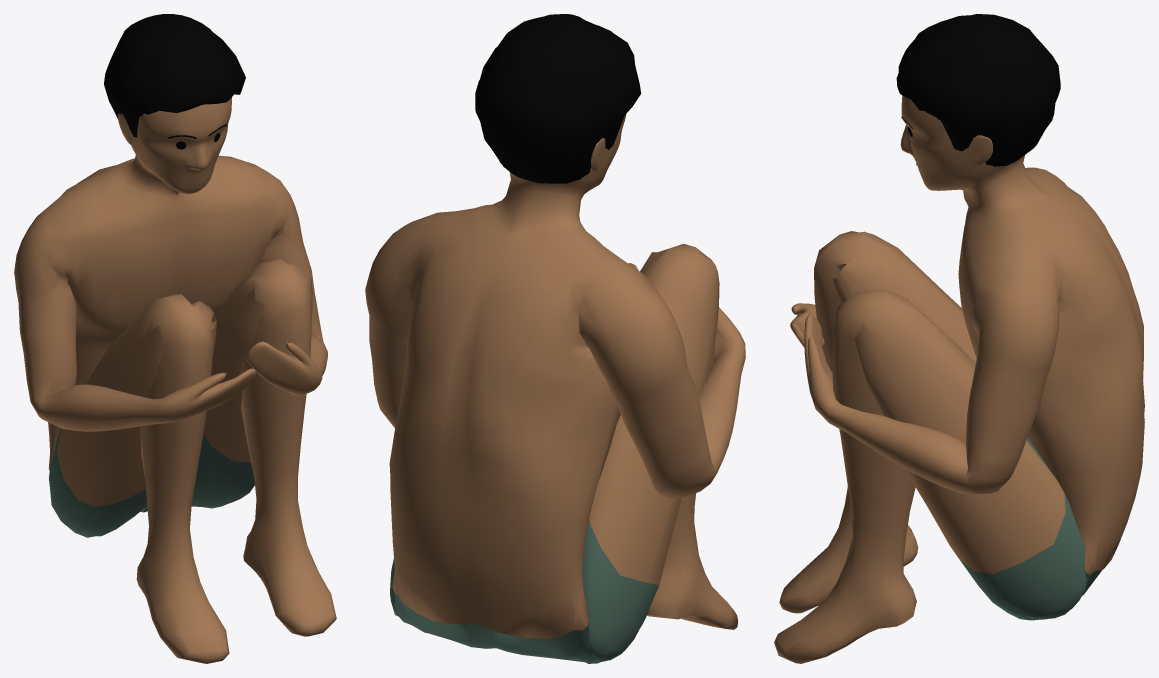
File: Male-Cannonball.glb
The picture shows the model from 3 angles, left to right: view 1: azimuth 30°, elevation 25°; view 2: azimuth 150°, elevation 25°; view 3: azimuth 270°, elevation 25°; orthographic projection. The views are drawn at different scales.
Parts seen in each view (by area): view 1: Male-Cannonball; view 2: Male-Cannonball; view 3: Male-Cannonball.
Boxes of the visible parts, x1=… form: Male-Cannonball: x1=14, y1=14, x2=336, y2=663; Male-Cannonball: x1=365, y1=14, x2=745, y2=663; Male-Cannonball: x1=774, y1=14, x2=1144, y2=663.
Bounding box in the file's own units: 0.4709 × 0.8869 × 0.4868.
